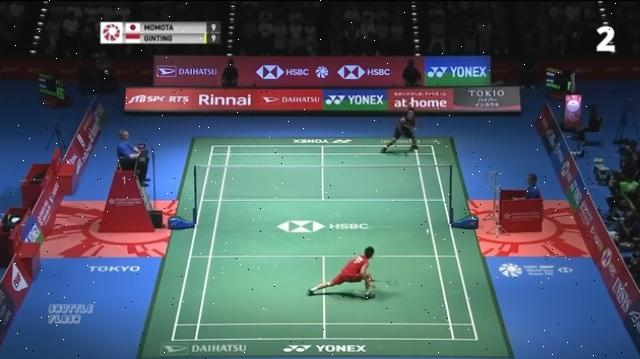Shuttlecock: (422, 227, 434, 239)
